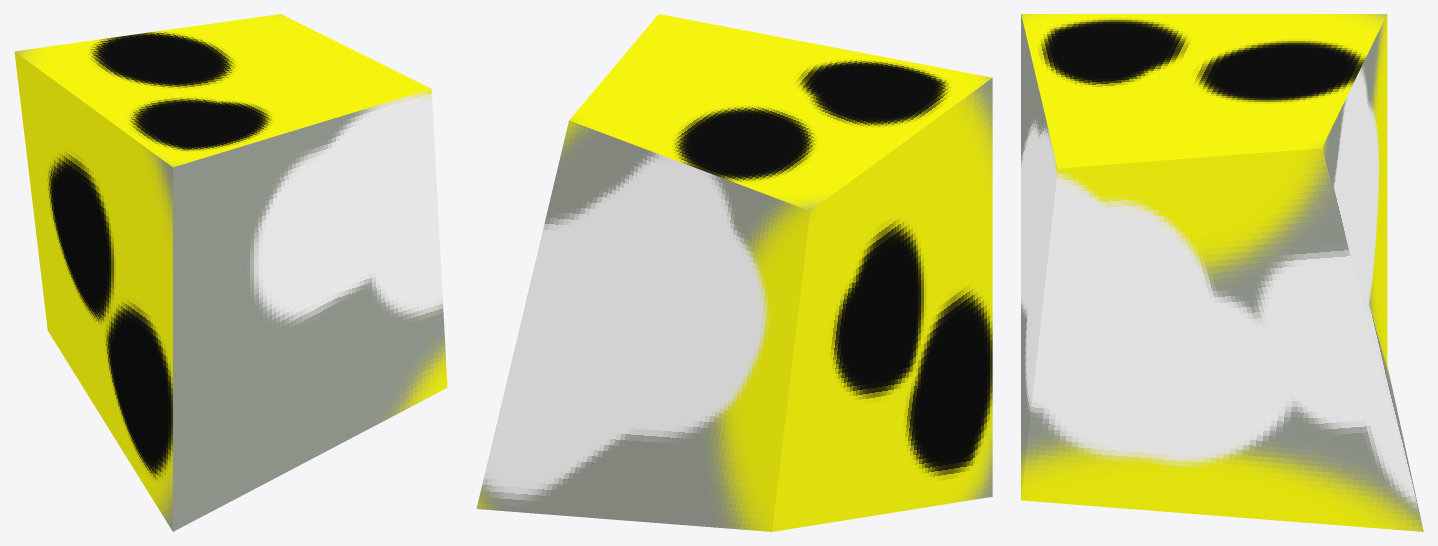
The model's file is cubeColorTexture.glb.
3 views of the same model, side by side, from view 1: azimuth 30°, elevation 25°; view 2: azimuth 150°, elevation 25°; view 3: azimuth 270°, elevation 25° (orthographic). The views are drawn at different scales.
Visible parts, largest first — view 1: Cube; view 2: Cube; view 3: Cube.
Boxes of the visible parts, x1,y1,x2,y2 form: Cube: [14, 14, 447, 531]; Cube: [476, 14, 992, 531]; Cube: [1021, 14, 1423, 531].
Size of the model in its own units: 2 by 2.54 by 2.2.
Materials: 1 (1 with a texture image).
